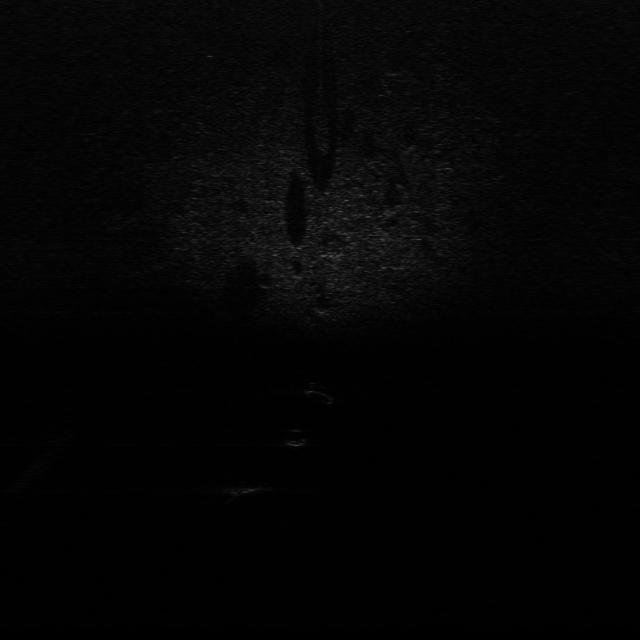ball: (282, 425, 309, 448)
square cage: (220, 482, 278, 500)
tyre: (302, 381, 339, 406)
